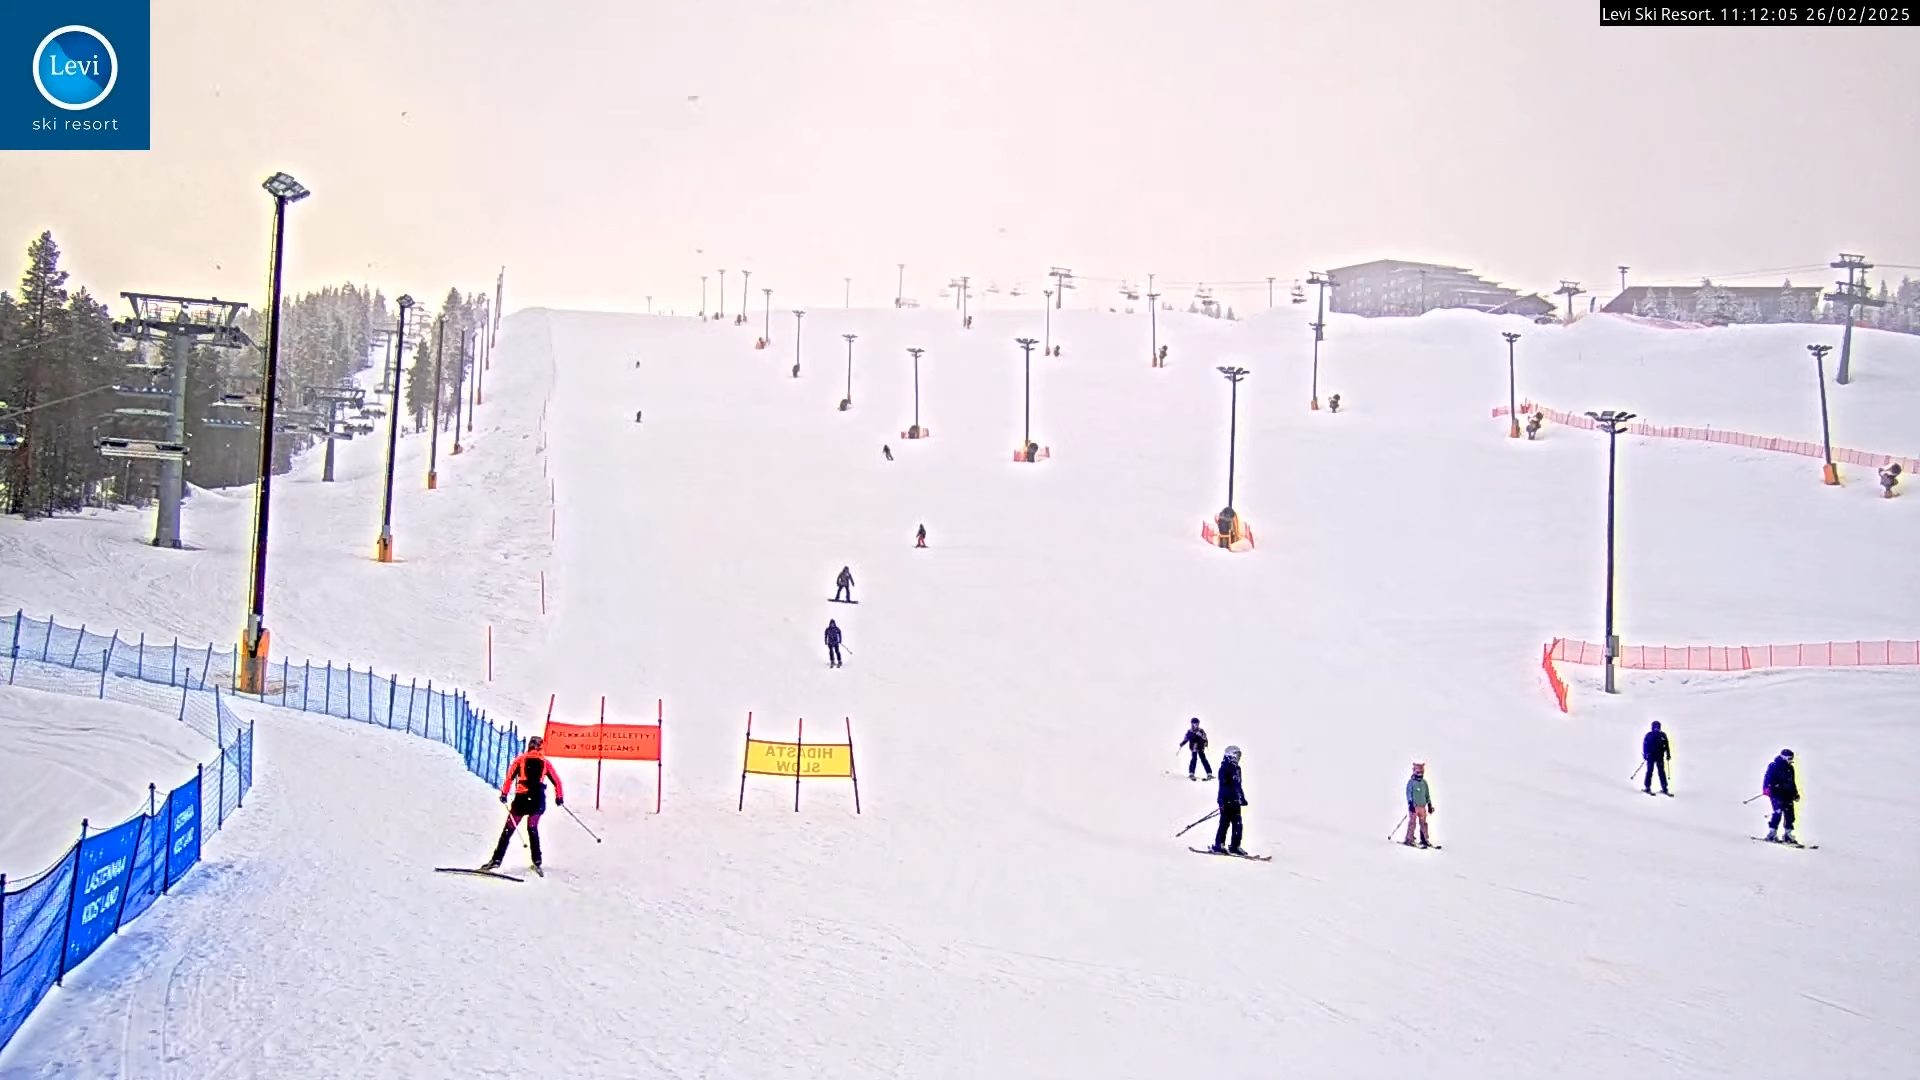skier: (1184, 733, 1274, 858), (1747, 740, 1820, 851), (1390, 757, 1444, 848), (1631, 712, 1680, 799)
